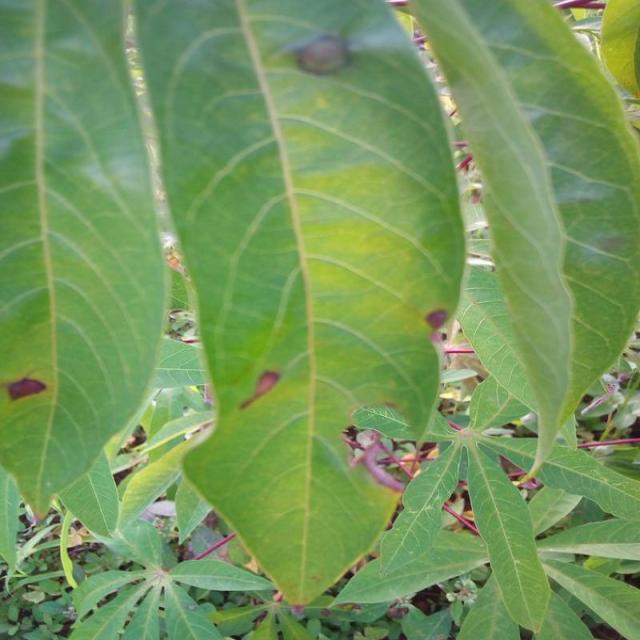cassava leaf: (133, 0, 467, 606), (408, 0, 638, 479), (0, 0, 168, 524)
